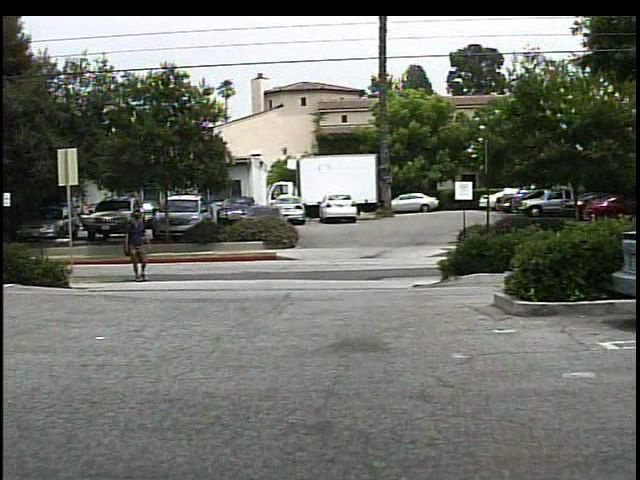person: (121, 209, 154, 284)
